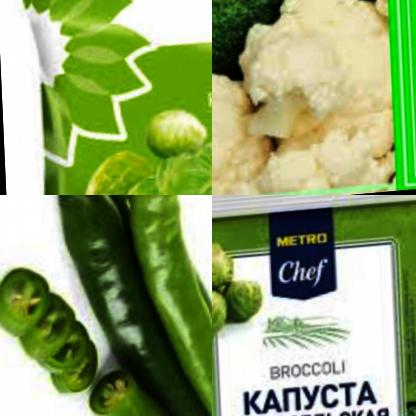broccoli: (212, 0, 374, 91)
brus capusta: (70, 89, 212, 195), (212, 238, 257, 364)
cayliflower: (212, 0, 416, 195)
hot pepper: (45, 195, 212, 416), (129, 195, 212, 416), (0, 249, 111, 404), (80, 360, 201, 416), (76, 195, 164, 236)
